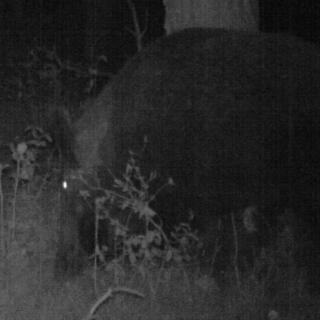Pig: (69, 17, 320, 279)
